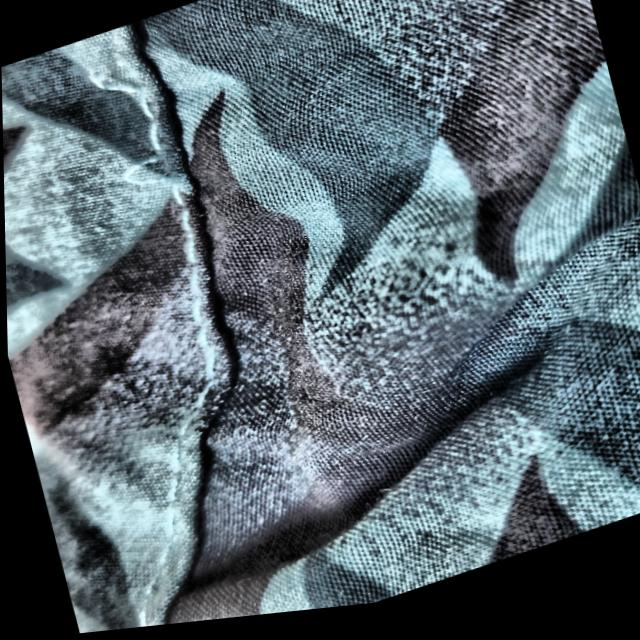Stitch: (75, 12, 215, 226)
